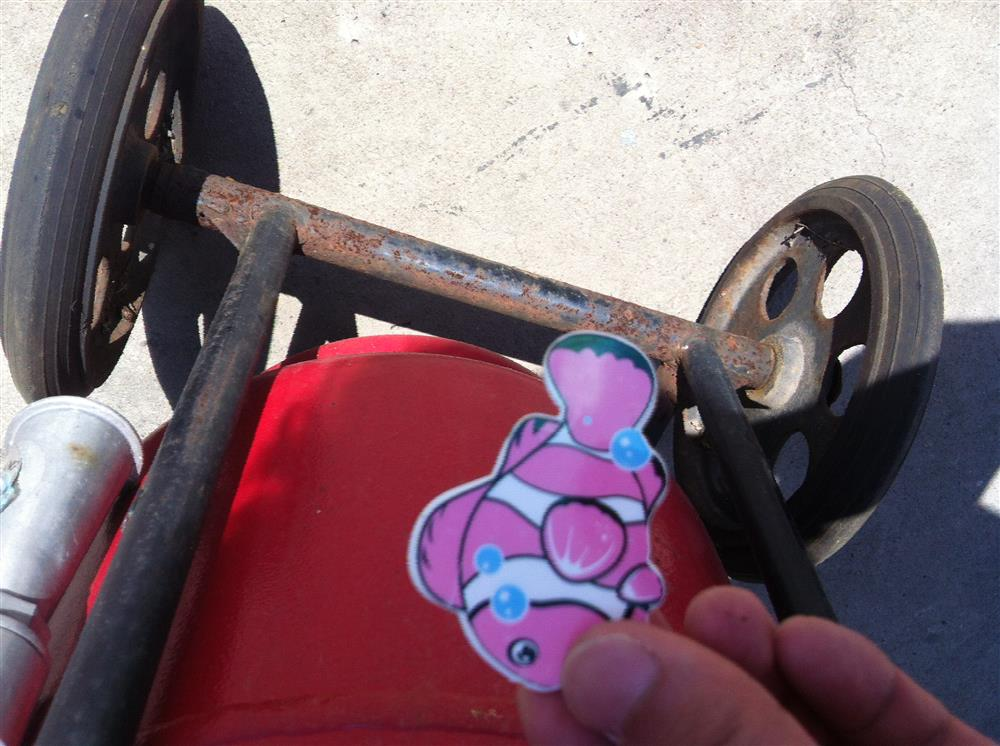fish_sticker: (497, 313, 675, 707)
